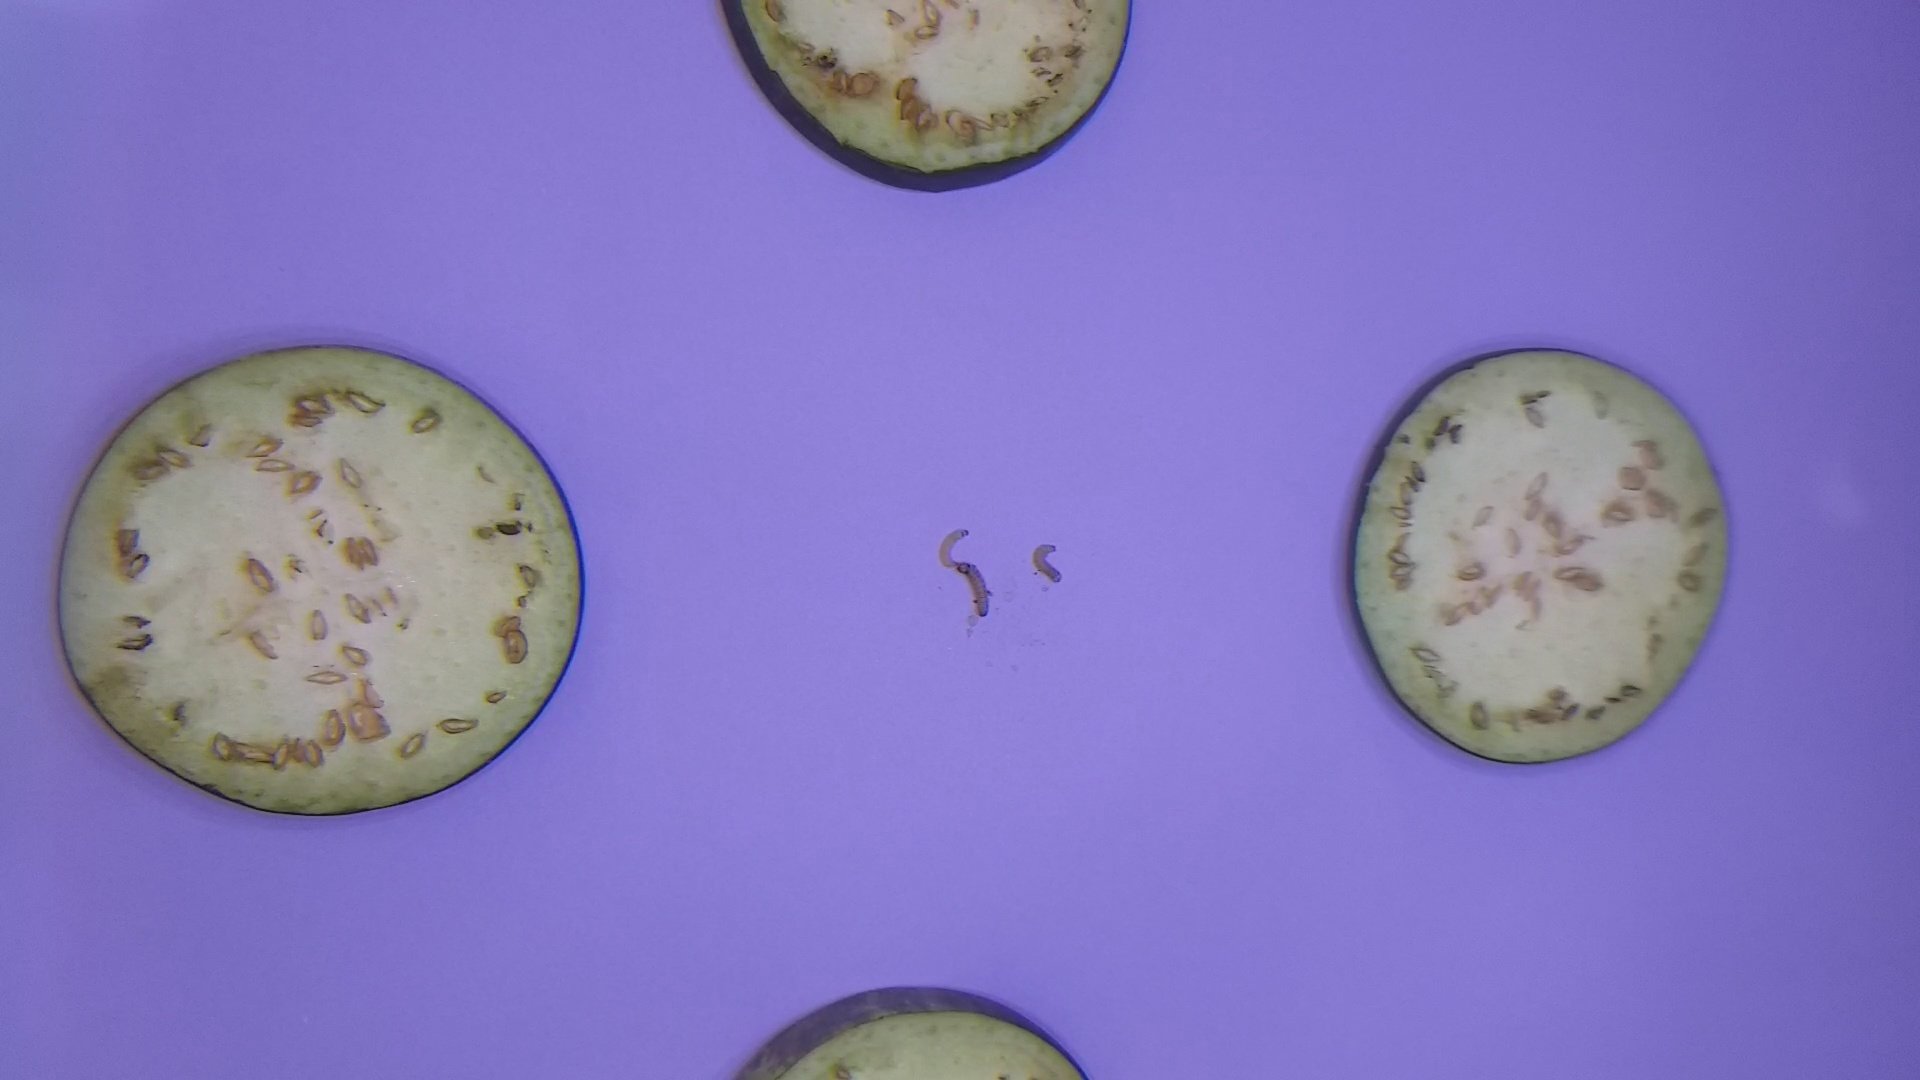efsb: (951, 559, 998, 622), (1027, 535, 1068, 589), (934, 521, 971, 574)
eggplant: (51, 326, 601, 827), (1331, 330, 1738, 781), (713, 1, 1153, 202), (702, 977, 1108, 1080)
